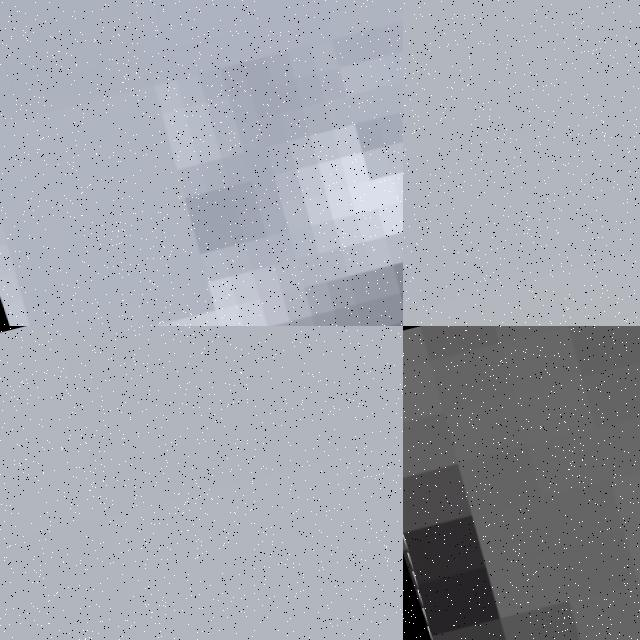drone: (0, 0, 403, 326), (403, 326, 640, 640)
